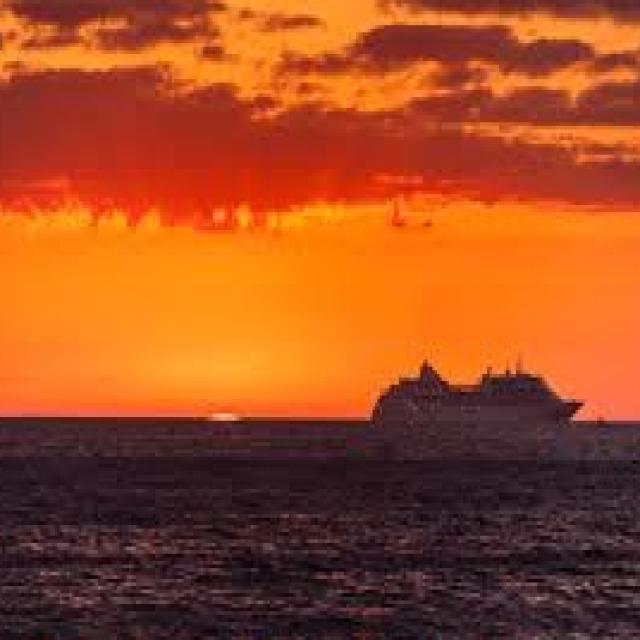navalvessels: (369, 337, 585, 441)
